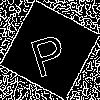P: (25, 25, 70, 78)
